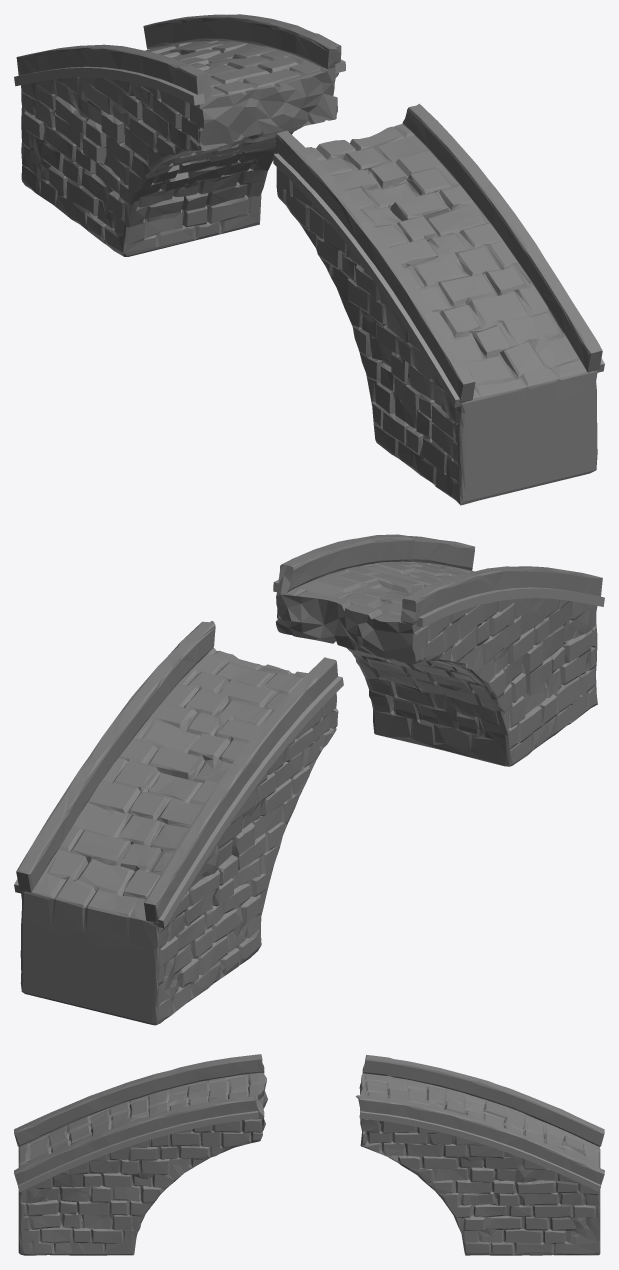
Rendered from bridge_c_destroyed.FBX.
3 renders of one model, top to bottom at view 1: azimuth 30°, elevation 25°; view 2: azimuth 150°, elevation 25°; view 3: azimuth 270°, elevation 25°, orthographic. The views are drawn at different scales.
Parts seen in each view (by area): view 1: bridge_c_destroyed; view 2: bridge_c_destroyed; view 3: bridge_c_destroyed.
Part boxes in pixels (<box>): bridge_c_destroyed: <box>14,14,604,505</box>; bridge_c_destroyed: <box>14,534,604,1025</box>; bridge_c_destroyed: <box>14,1054,604,1255</box>.
Bounding box in the file's own units: 5.28 × 8.08 × 27.44.
